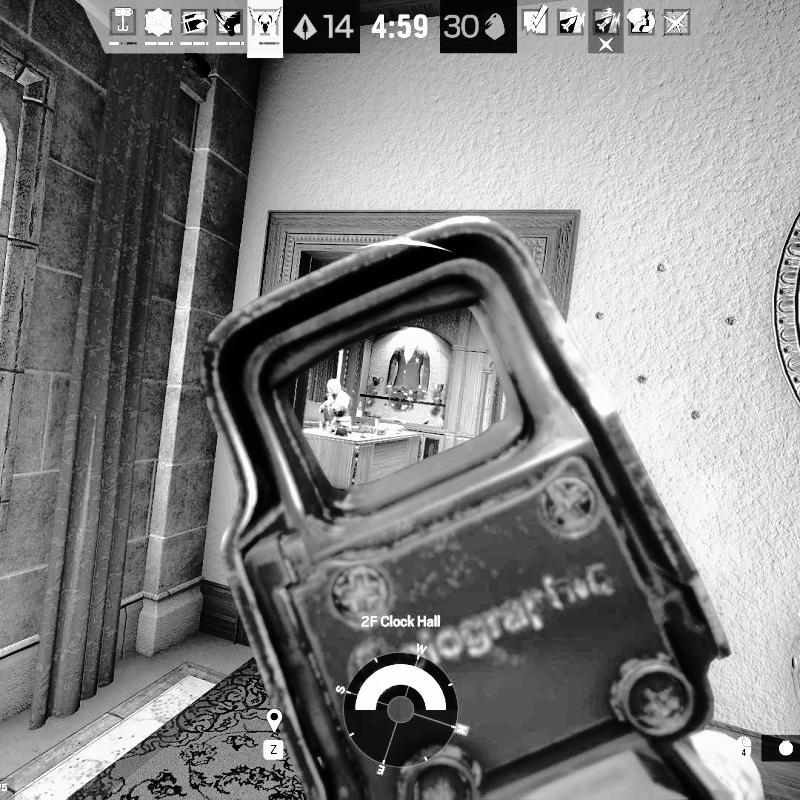Character: (318, 376, 355, 428)
Head: (325, 378, 343, 395)
